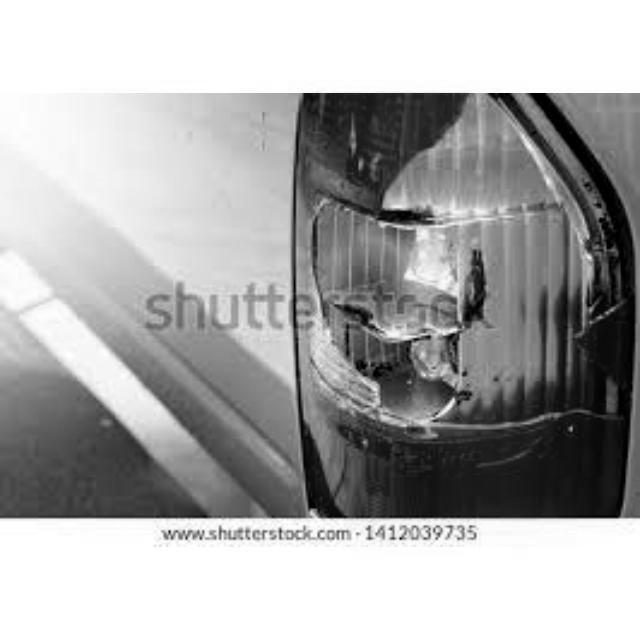Taillight-Damage: (314, 94, 561, 507)
